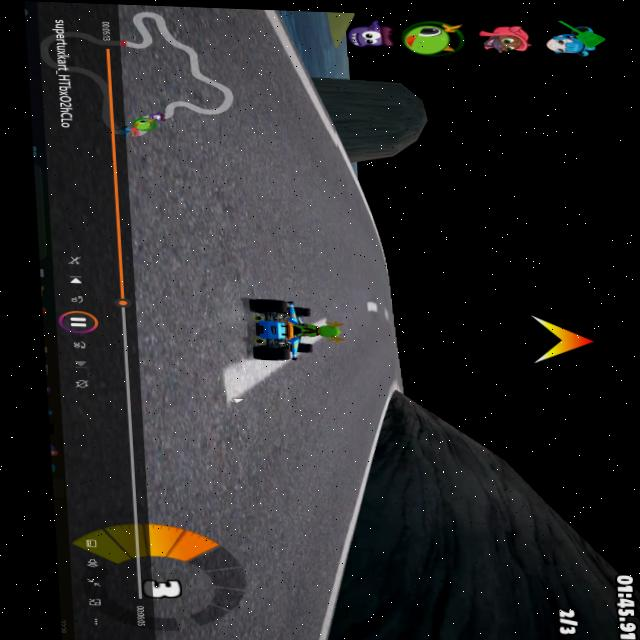player_kart: (226, 297, 349, 366)
track: (128, 359, 324, 640), (123, 118, 335, 300), (111, 8, 272, 125), (333, 158, 362, 485), (313, 371, 356, 554), (135, 297, 227, 364), (352, 222, 383, 417), (373, 289, 398, 386), (271, 67, 303, 124), (371, 258, 392, 289), (351, 198, 366, 224)
